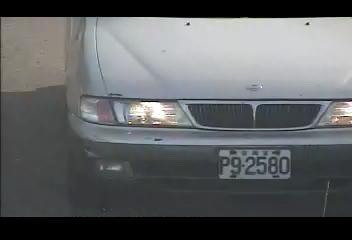plate: (216, 148, 292, 181)
